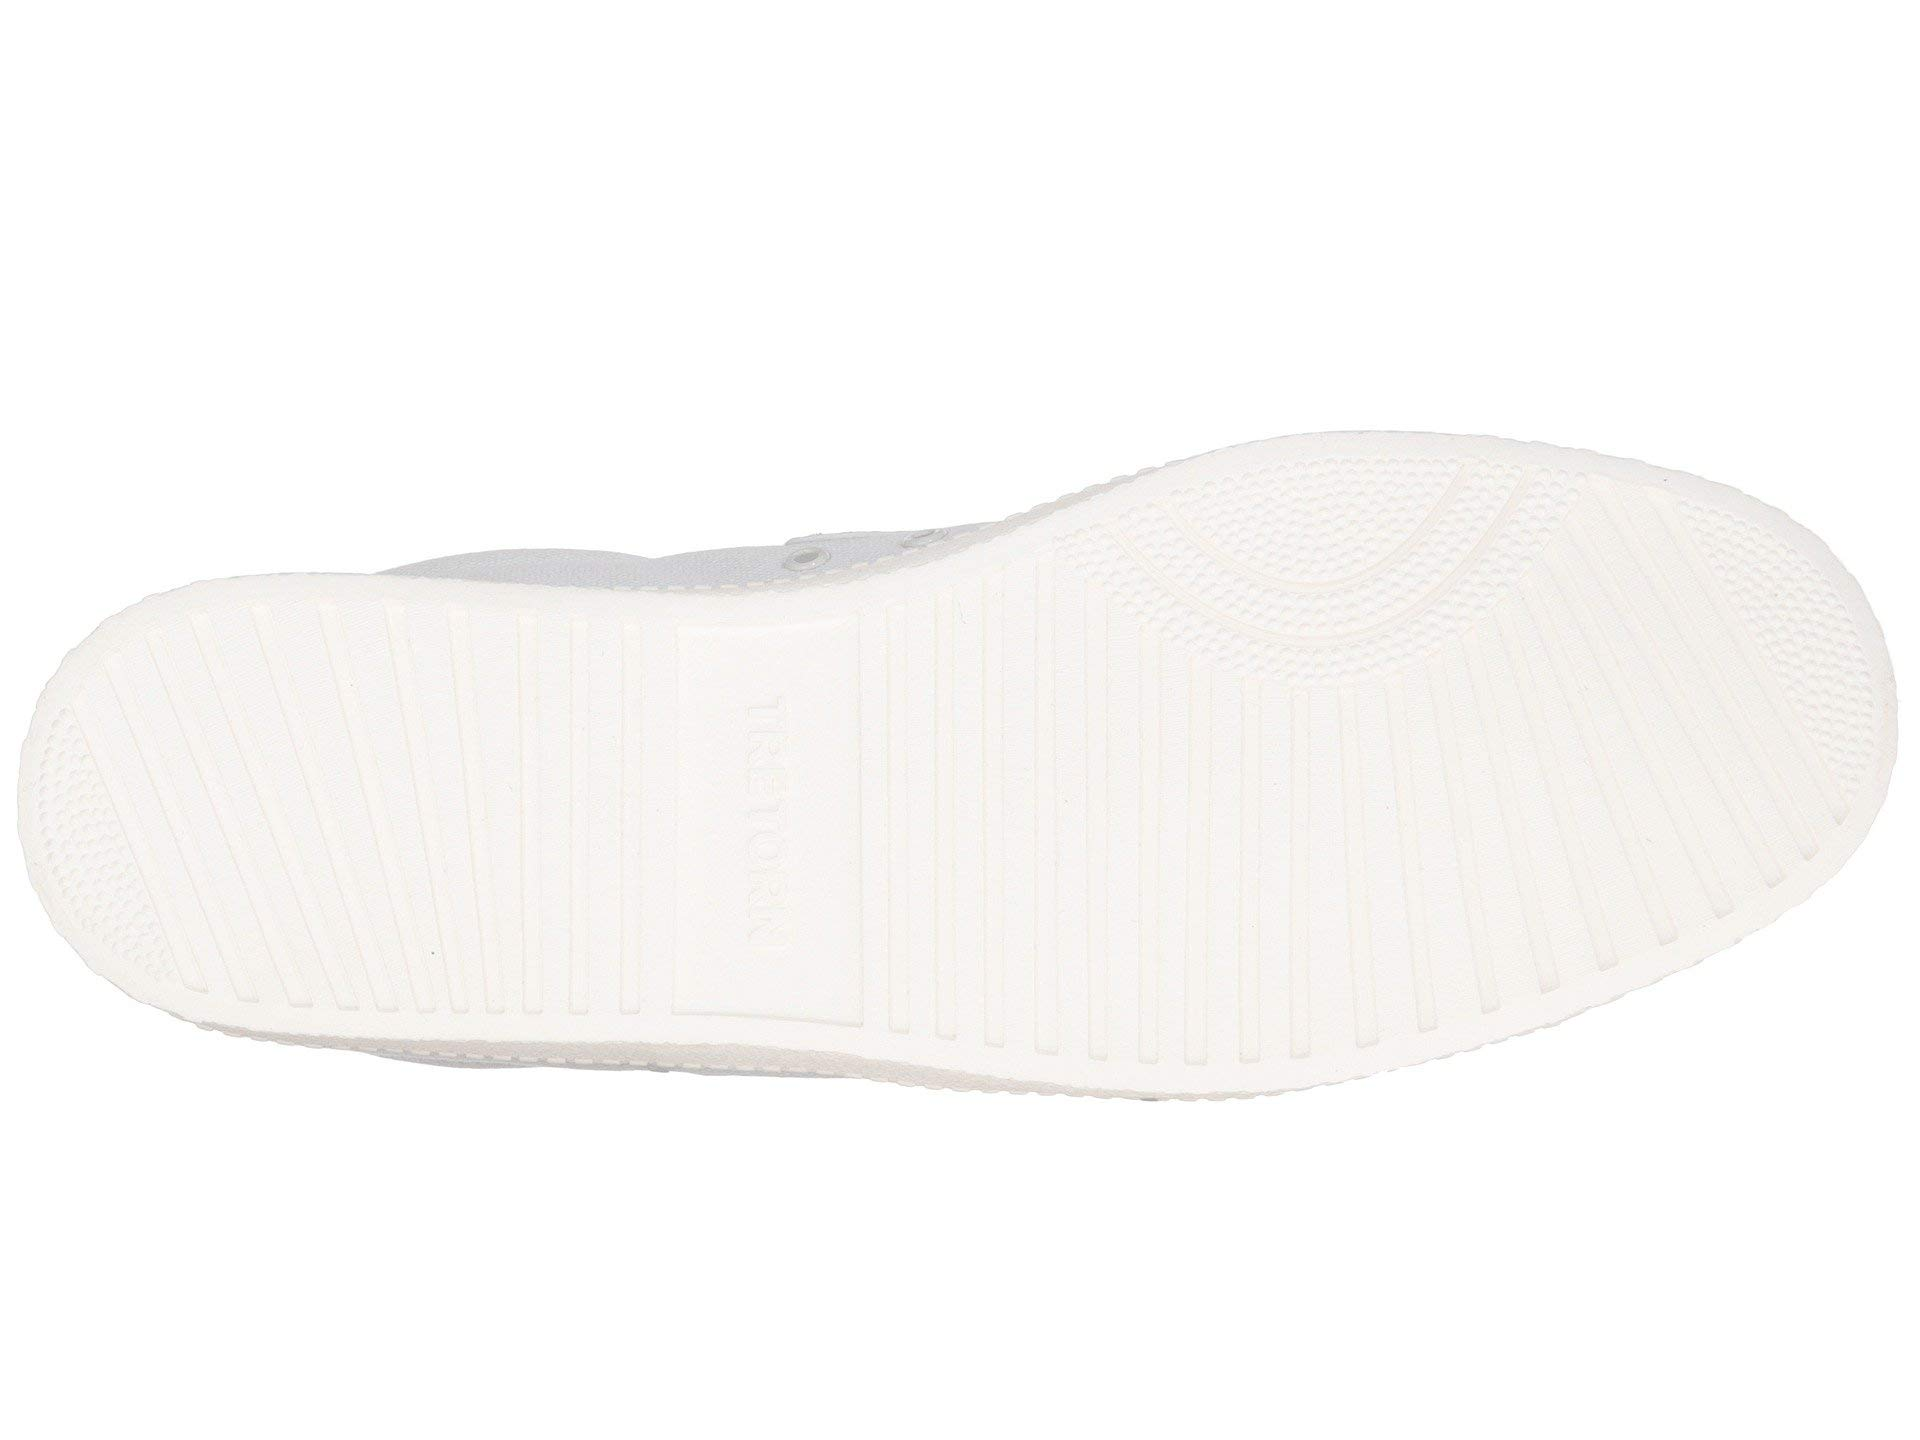line: (674, 681, 1075, 1023)
text: (674, 681, 1075, 1023)
